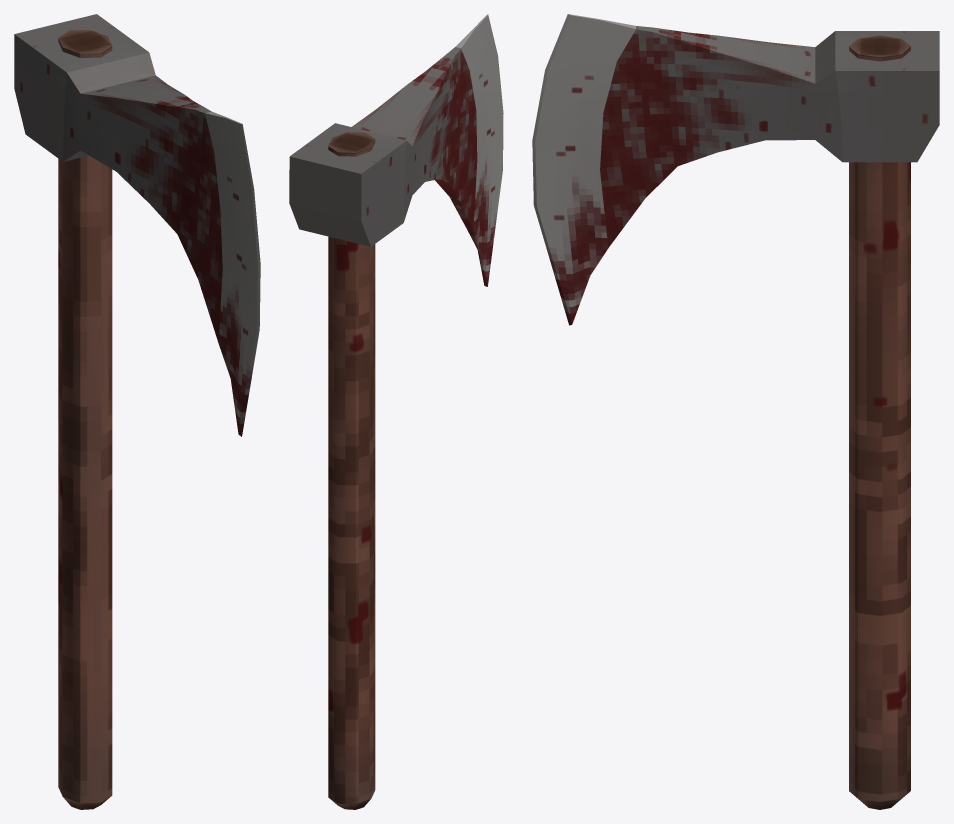
File: AxeWeaponModelUnity.fbx
3 views of the same model, side by side, from view 1: azimuth 30°, elevation 25°; view 2: azimuth 150°, elevation 25°; view 3: azimuth 270°, elevation 25° (orthographic). The views are drawn at different scales.
Parts seen in each view (by area): view 1: AxeWeaponModel; view 2: AxeWeaponModel; view 3: AxeWeaponModel.
Boxes of the visible parts, <box> form: AxeWeaponModel: <box>14,14,260,809</box>; AxeWeaponModel: <box>289,14,503,809</box>; AxeWeaponModel: <box>532,14,939,809</box>.
Size of the model in its own units: 11.04 by 101 by 47.44.
1 material, 1 textured.
